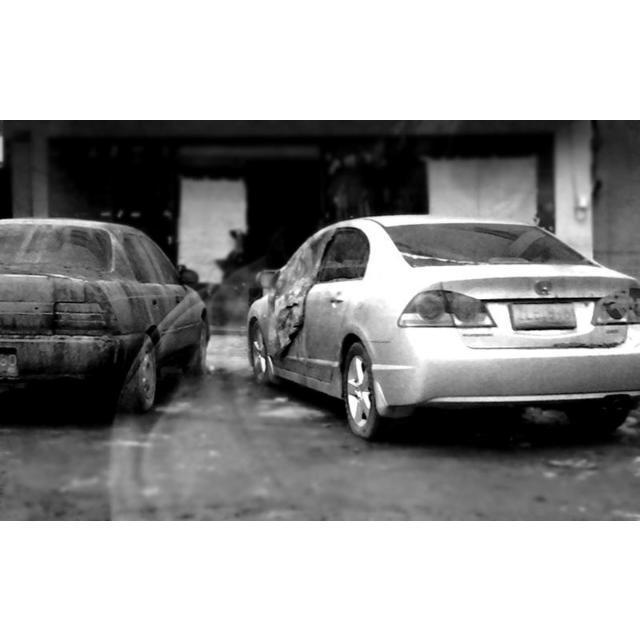Rear-windscreen-Damage: (386, 214, 560, 270)
boot-dent: (442, 272, 630, 360)
doorouter-dent: (268, 237, 312, 363)
